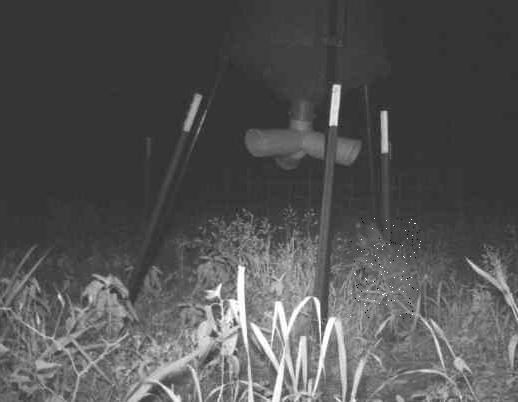Raccoon: (349, 219, 420, 320)
